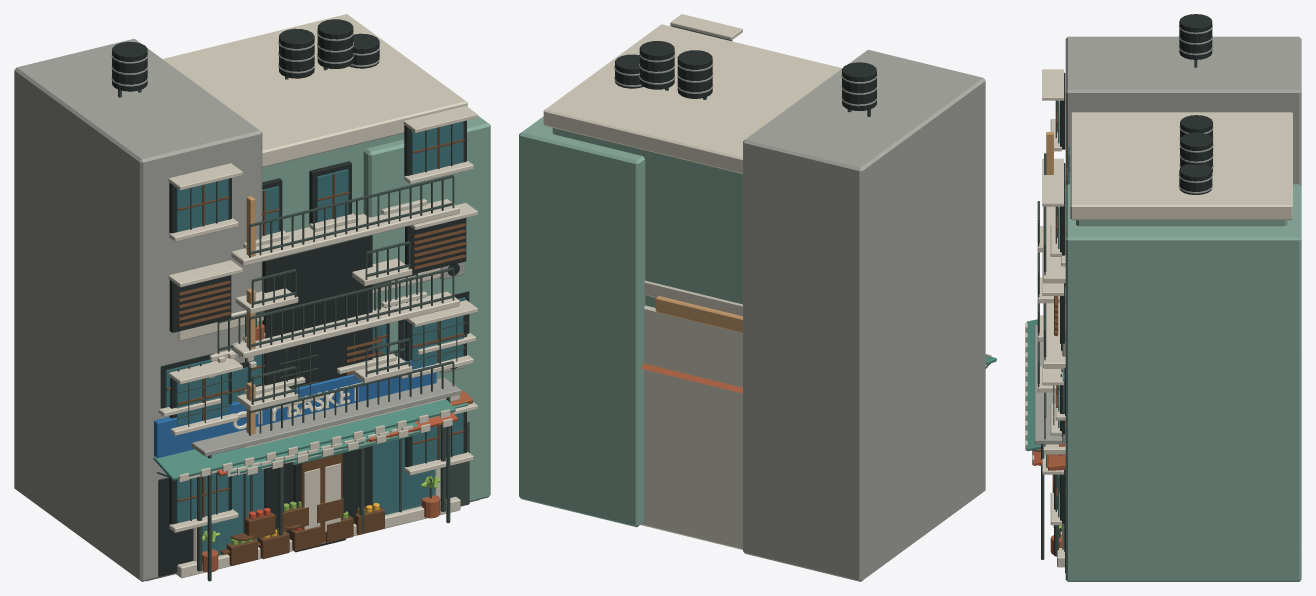
Rendered from architecture.glb.
The picture shows the model from 3 angles, left to right: view 1: azimuth 30°, elevation 25°; view 2: azimuth 150°, elevation 25°; view 3: azimuth 270°, elevation 25°; orthographic projection. The views are drawn at different scales.
Visible parts, largest first — view 1: ARCH_ModernCourtyardApartments__MAT_Concrete, ARCH_MixedUseApartments__MAT_TrimStone, ARCH_ModernCourtyardApartments__MAT_Shadow, ARCH_ModernCourtyardApartments__MAT_PlasterSage, ARCH_ModernCourtyardApartments__MAT_TrimStone, ARCH_ModernCourtyardApartments__MAT_Glass, ARCH_MixedUseApartments__MAT_PaintedMetal, ARCH_ModernCourtyardApartments__MAT_Timber, ARCH_CityBasketMarket__MAT_SignBlue, ARCH_CornerCareParcel__MAT_Glass, ARCH_ProduceShop__MAT_Timber, ARCH_CityBasketMarket__MAT_Glass (+18 smaller); view 2: ARCH_ModernCourtyardApartments__MAT_Concrete, ARCH_ModernCourtyardApartments__MAT_PlasterSage, ARCH_CityBasketMarket__MAT_Limewash, ARCH_MixedUseApartments__MAT_TrimStone, ARCH_MixedUseApartments__MAT_PlasterSage, ARCH_MixedUseApartments__MAT_Shadow, ARCH_ModernCourtyardApartments__MAT_Shadow, ARCH_CityBasketMarket__MAT_PlasterOchre, ARCH_CornerCareParcel__MAT_TrimStone, ARCH_ModernCourtyardApartments__MAT_TrimStone, ARCH_VerandahHouse__MAT_Terracotta; view 3: ARCH_ModernCourtyardApartments__MAT_PlasterSage, ARCH_MixedUseApartments__MAT_TrimStone, ARCH_ModernCourtyardApartments__MAT_Concrete, ARCH_ModernCourtyardApartments__MAT_TrimStone, ARCH_ModernCourtyardApartments__MAT_Shadow, ARCH_MixedUseApartments__MAT_Shadow, ARCH_MixedUseApartments__MAT_PlasterSage, ARCH_CornerCareParcel__MAT_Concrete, ARCH_CityBasketMarket__MAT_AwningGreen, ARCH_ModernCourtyardApartments__MAT_PaintedMetal, ARCH_MixedUseApartments__MAT_PaintedMetal, ARCH_CityBasketMarket__MAT_TrimStone (+2 smaller).
Part boxes in pixels (x1=…): ARCH_ModernCourtyardApartments__MAT_Concrete: x1=14, y1=38, x2=379, y2=581; ARCH_MixedUseApartments__MAT_TrimStone: x1=163, y1=14, x2=467, y2=475; ARCH_ModernCourtyardApartments__MAT_Shadow: x1=112, y1=33, x2=466, y2=552; ARCH_ModernCourtyardApartments__MAT_PlasterSage: x1=363, y1=116, x2=490, y2=501; ARCH_ModernCourtyardApartments__MAT_TrimStone: x1=168, y1=106, x2=477, y2=532; ARCH_ModernCourtyardApartments__MAT_Glass: x1=176, y1=121, x2=463, y2=522; ARCH_MixedUseApartments__MAT_PaintedMetal: x1=249, y1=67, x2=454, y2=435; ARCH_ModernCourtyardApartments__MAT_Timber: x1=177, y1=127, x2=465, y2=542; ARCH_CityBasketMarket__MAT_SignBlue: x1=154, y1=356, x2=436, y2=457; ARCH_CornerCareParcel__MAT_Glass: x1=216, y1=320, x2=435, y2=554; ARCH_ProduceShop__MAT_Timber: x1=226, y1=498, x2=384, y2=565; ARCH_CityBasketMarket__MAT_Glass: x1=165, y1=297, x2=465, y2=555; ARCH_ModernCourtyardApartments__MAT_Concrete: x1=614, y1=49, x2=985, y2=581; ARCH_ModernCourtyardApartments__MAT_PlasterSage: x1=519, y1=116, x2=645, y2=527; ARCH_CityBasketMarket__MAT_Limewash: x1=640, y1=305, x2=742, y2=549; ARCH_MixedUseApartments__MAT_TrimStone: x1=543, y1=24, x2=841, y2=173; ARCH_MixedUseApartments__MAT_PlasterSage: x1=552, y1=128, x2=742, y2=307; ARCH_MixedUseApartments__MAT_Shadow: x1=639, y1=41, x2=712, y2=98; ARCH_ModernCourtyardApartments__MAT_Shadow: x1=615, y1=25, x2=876, y2=110; ARCH_CityBasketMarket__MAT_PlasterOchre: x1=655, y1=296, x2=742, y2=332; ARCH_CornerCareParcel__MAT_TrimStone: x1=644, y1=280, x2=742, y2=316; ARCH_ModernCourtyardApartments__MAT_TrimStone: x1=670, y1=14, x2=742, y2=40; ARCH_VerandahHouse__MAT_Terracotta: x1=641, y1=363, x2=742, y2=393; ARCH_ModernCourtyardApartments__MAT_PlasterSage: x1=1065, y1=184, x2=1301, y2=581; ARCH_MixedUseApartments__MAT_TrimStone: x1=1032, y1=112, x2=1292, y2=465; ARCH_ModernCourtyardApartments__MAT_Concrete: x1=1065, y1=25, x2=1301, y2=193; ARCH_ModernCourtyardApartments__MAT_TrimStone: x1=1037, y1=69, x2=1065, y2=525; ARCH_ModernCourtyardApartments__MAT_Shadow: x1=1059, y1=14, x2=1212, y2=523; ARCH_MixedUseApartments__MAT_Shadow: x1=1061, y1=115, x2=1212, y2=436; ARCH_MixedUseApartments__MAT_PlasterSage: x1=1076, y1=220, x2=1287, y2=226; ARCH_CornerCareParcel__MAT_Concrete: x1=1034, y1=325, x2=1065, y2=444; ARCH_CityBasketMarket__MAT_AwningGreen: x1=1026, y1=319, x2=1040, y2=450; ARCH_ModernCourtyardApartments__MAT_PaintedMetal: x1=1037, y1=60, x2=1197, y2=511; ARCH_MixedUseApartments__MAT_PaintedMetal: x1=1039, y1=153, x2=1046, y2=465; ARCH_CityBasketMarket__MAT_TrimStone: x1=1025, y1=323, x2=1065, y2=450.
Size of the model in its own units: 10.6 by 13.59 by 7.84.
